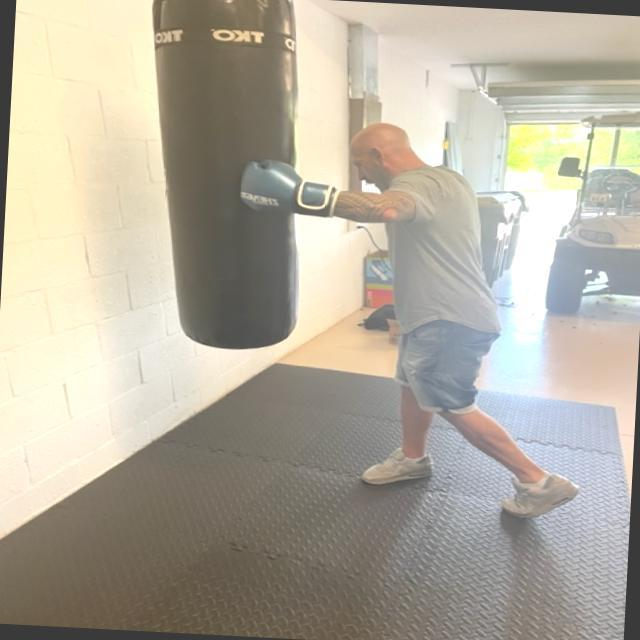hook: (228, 100, 502, 256)
